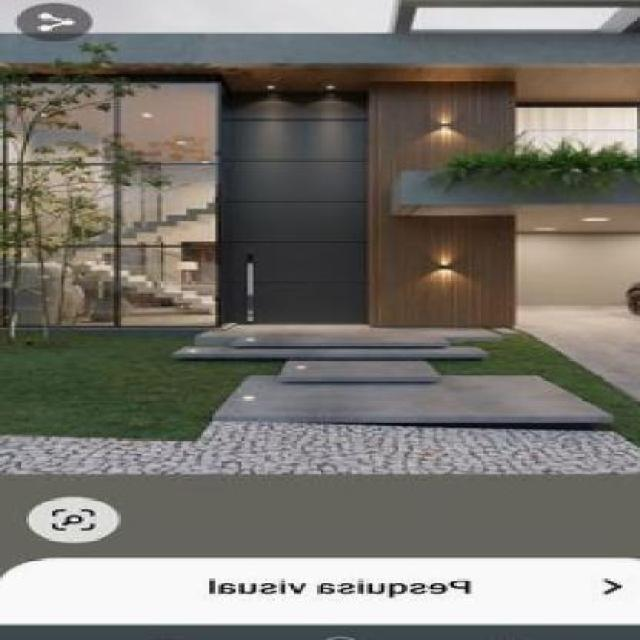stair: (202, 312, 622, 441)
